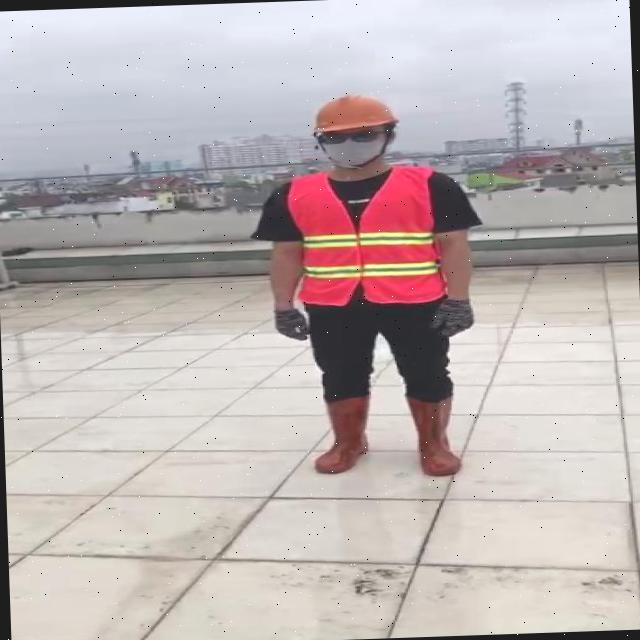boots: (403, 394, 463, 477), (308, 396, 370, 476)
helmet: (308, 91, 401, 132)
vest: (287, 164, 458, 307)
